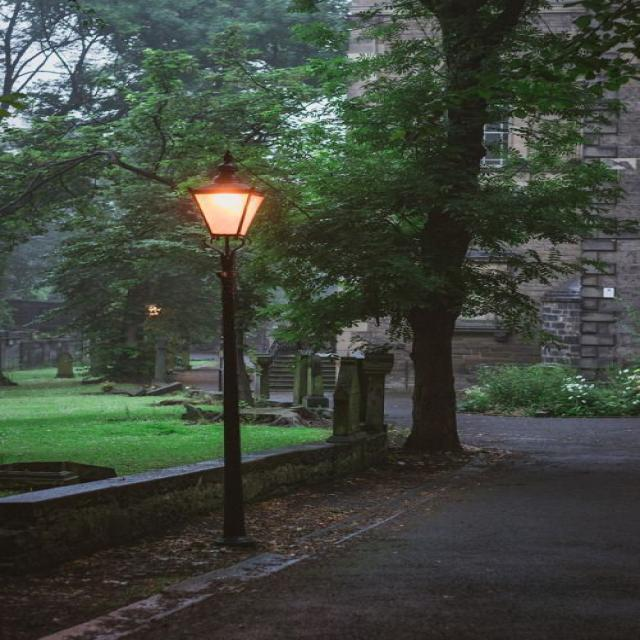on: (182, 135, 280, 261)
